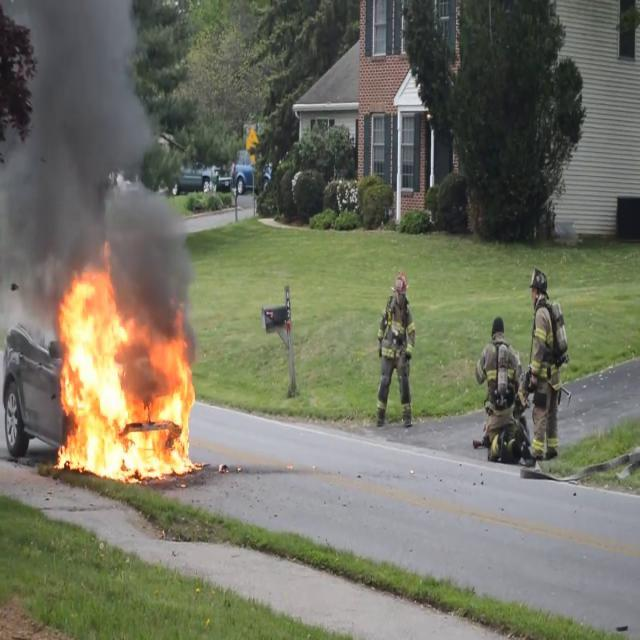Fire: (52, 267, 198, 484)
Smoke: (0, 0, 193, 309)
